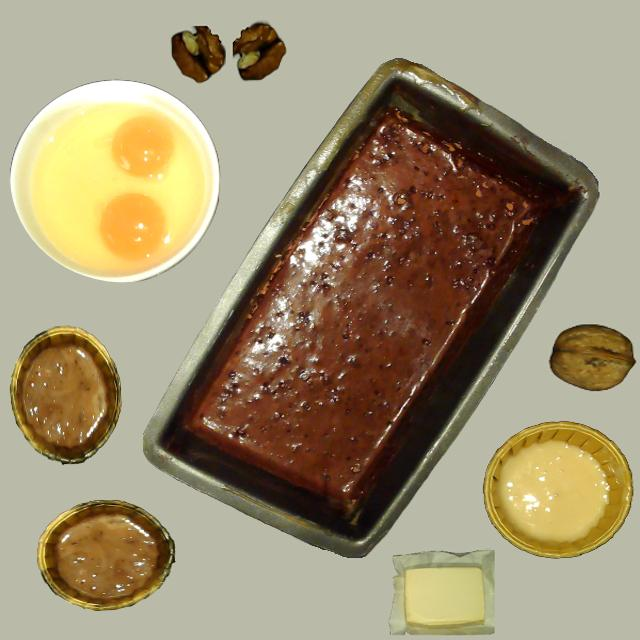Egg: (38, 107, 197, 267), (98, 193, 167, 261), (111, 116, 175, 179)
Walnut: (549, 324, 635, 392)
